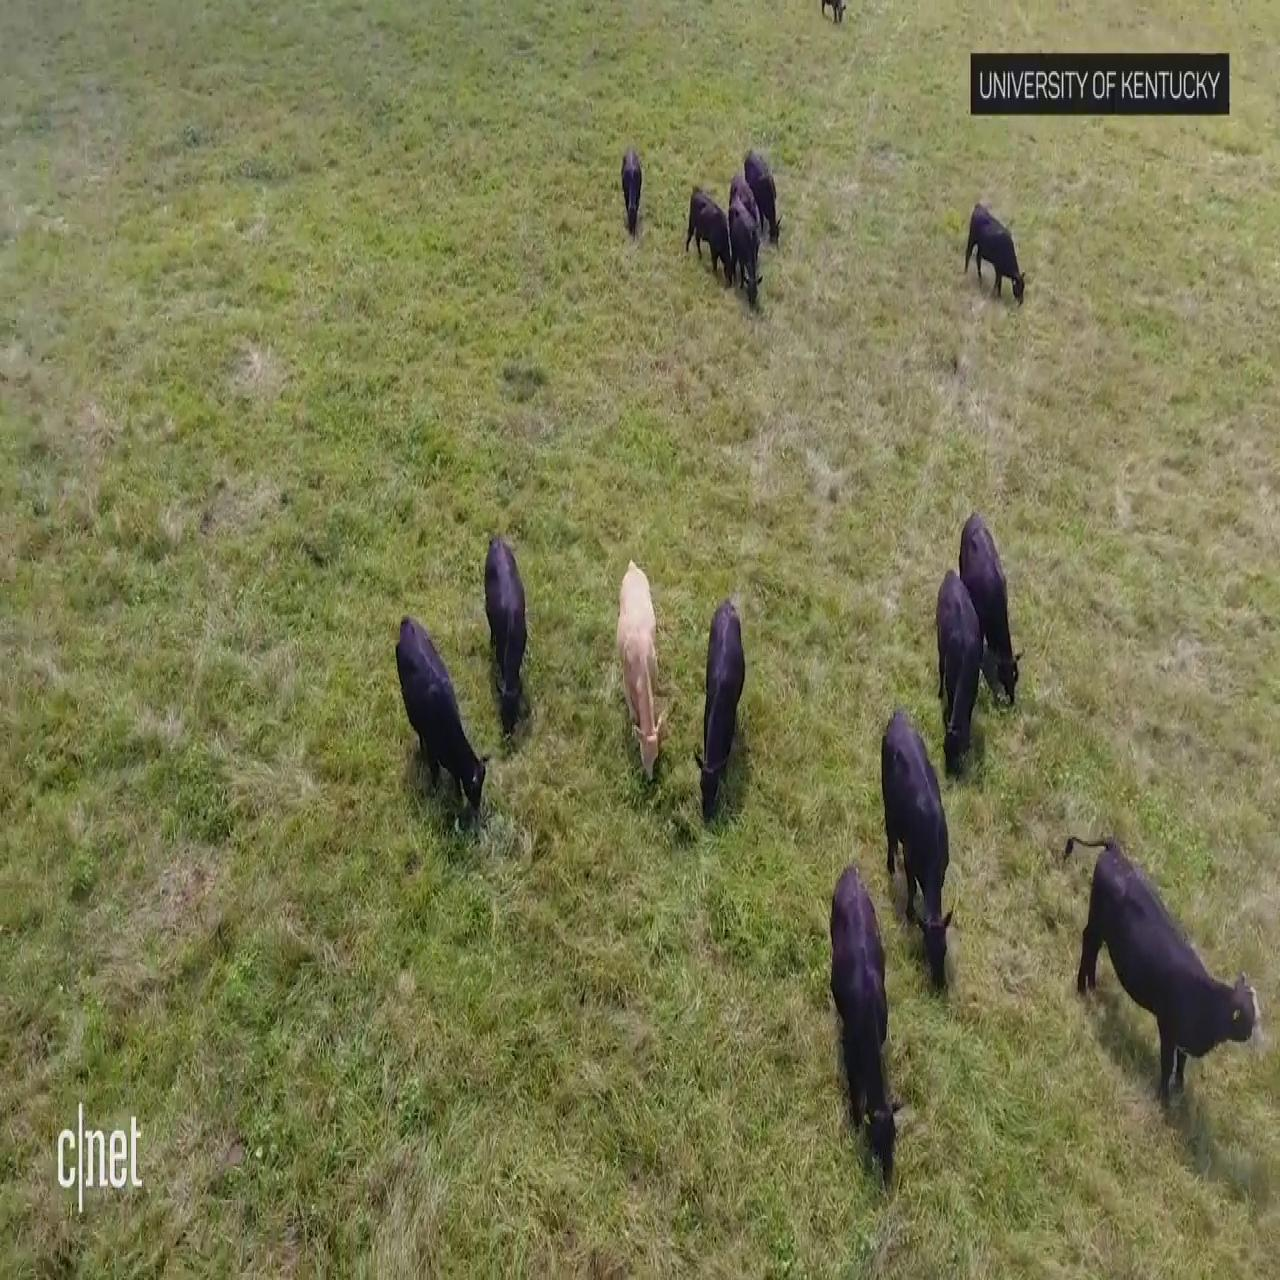cow: (1076, 837, 1260, 1112), (828, 863, 912, 1194), (394, 606, 491, 830), (880, 706, 949, 995), (924, 560, 992, 798), (692, 595, 749, 850), (608, 553, 662, 794), (958, 517, 1023, 712), (476, 531, 530, 745), (960, 198, 1028, 305), (726, 203, 768, 313), (743, 138, 782, 247), (685, 185, 730, 270), (618, 148, 647, 247), (821, 0, 847, 25)
